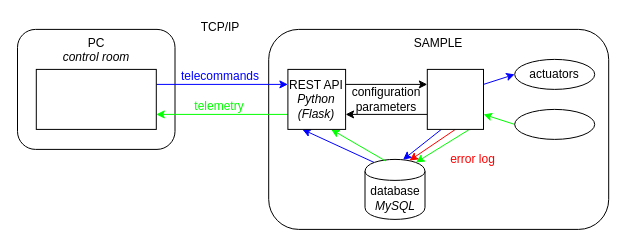
This 627x247 diagram has some shape labels left out. Here are the shapes that lost their labels. From the top down, the box of each, then its label:
(35, 68, 156, 129): client C#
(426, 68, 484, 129): controller Python
(514, 108, 595, 139): sensors
